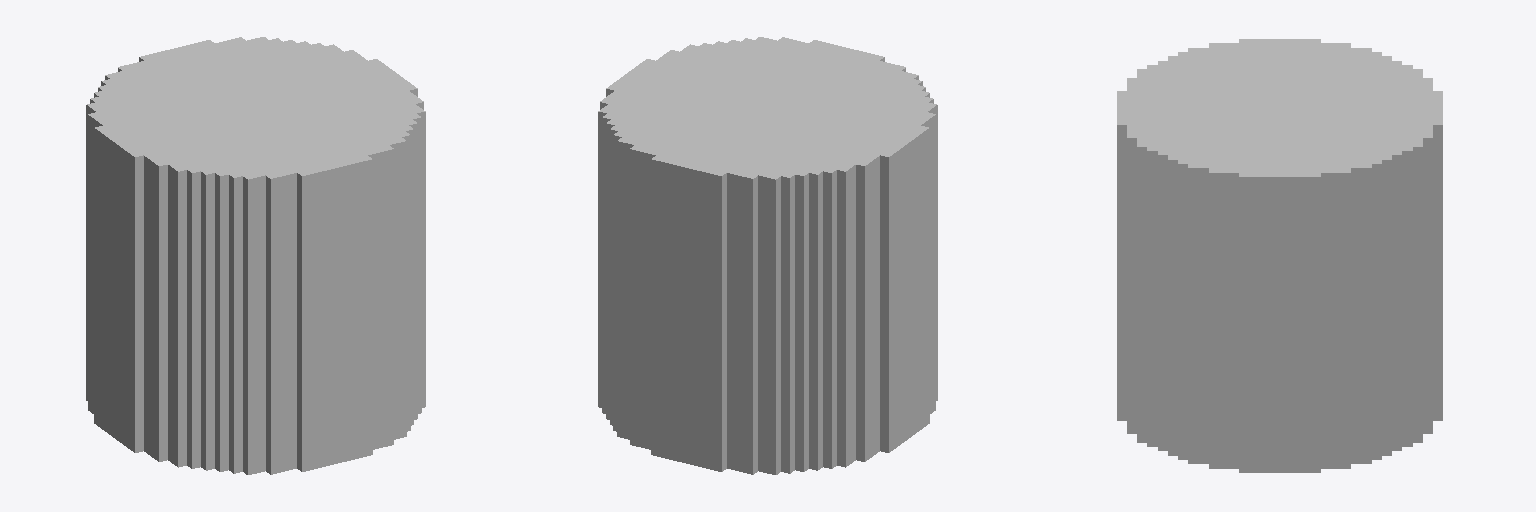
Rendered from body.obj.
3 renders of one model, left to right at view 1: azimuth 30°, elevation 25°; view 2: azimuth 150°, elevation 25°; view 3: azimuth 270°, elevation 25°, orthographic.
Visible parts, largest first — view 1: object 1; view 2: object 1; view 3: object 1.
Boxes of the visible parts, <box> form: object 1: <box>86,37,425,474</box>; object 1: <box>598,37,937,474</box>; object 1: <box>1117,39,1442,472</box>.
Bounding box in the file's own units: 3.2 × 3.2 × 3.2.